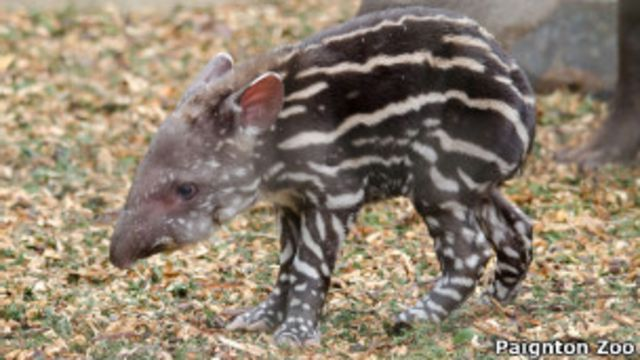Anta: (86, 5, 568, 334)
